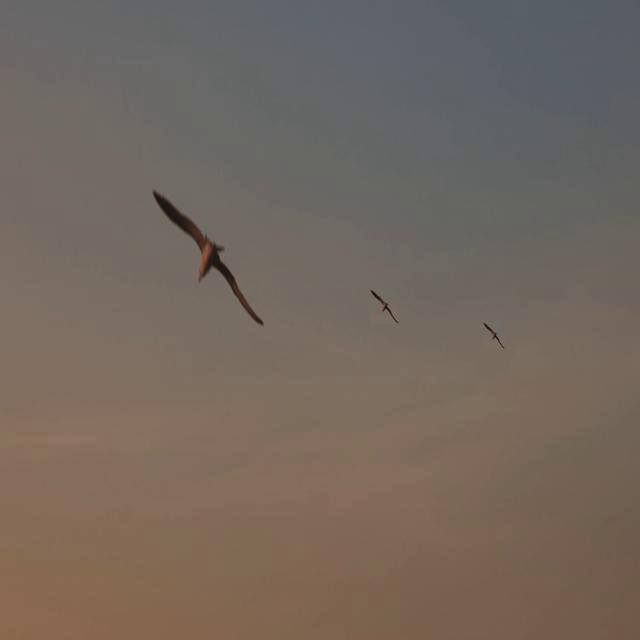bird: (153, 188, 265, 325), (369, 290, 399, 324), (482, 323, 506, 350)
